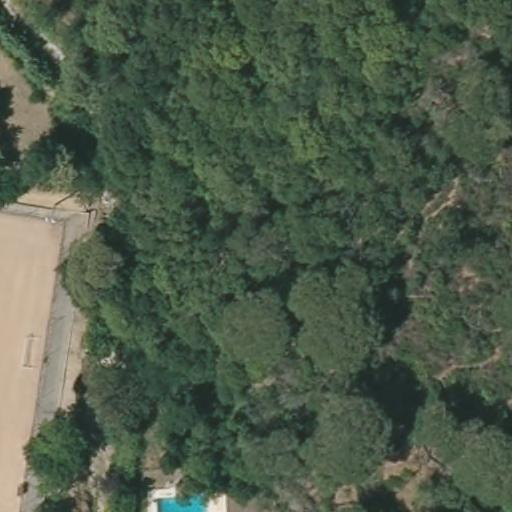pool: (147, 478, 225, 511)
